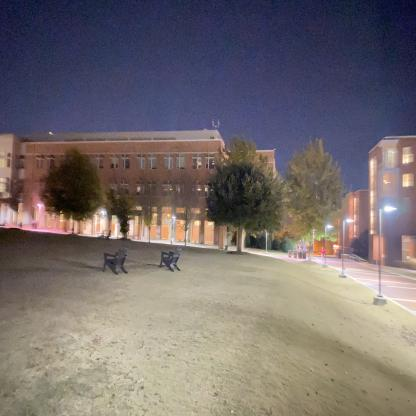eb3: (2, 113, 309, 261)
